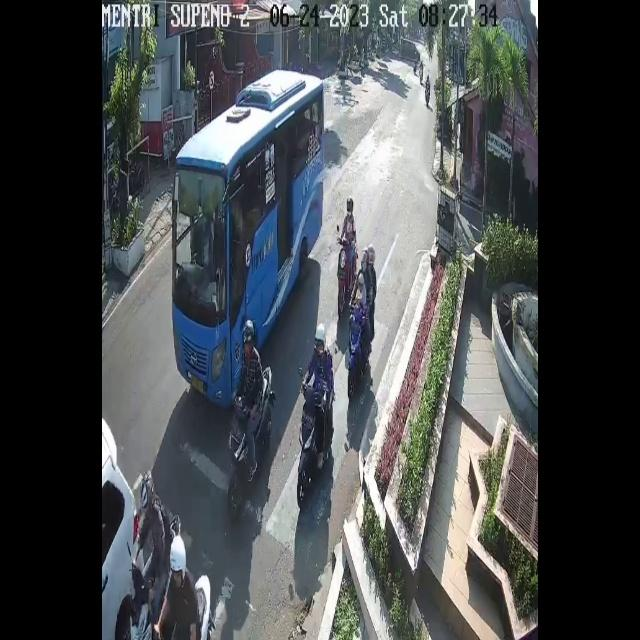bus: (226, 364, 274, 524), (130, 510, 182, 640), (294, 378, 332, 506), (346, 301, 371, 401), (338, 235, 358, 316)
car: (171, 70, 322, 404)
motorcycle: (400, 38, 422, 64)
